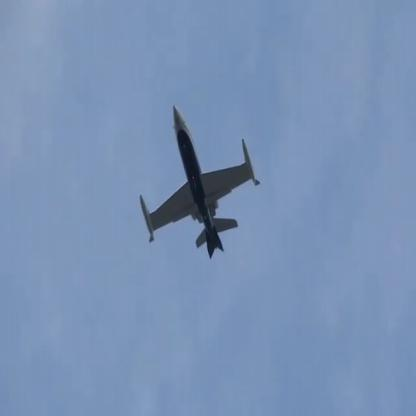CIV_Plane: (136, 105, 262, 260)
